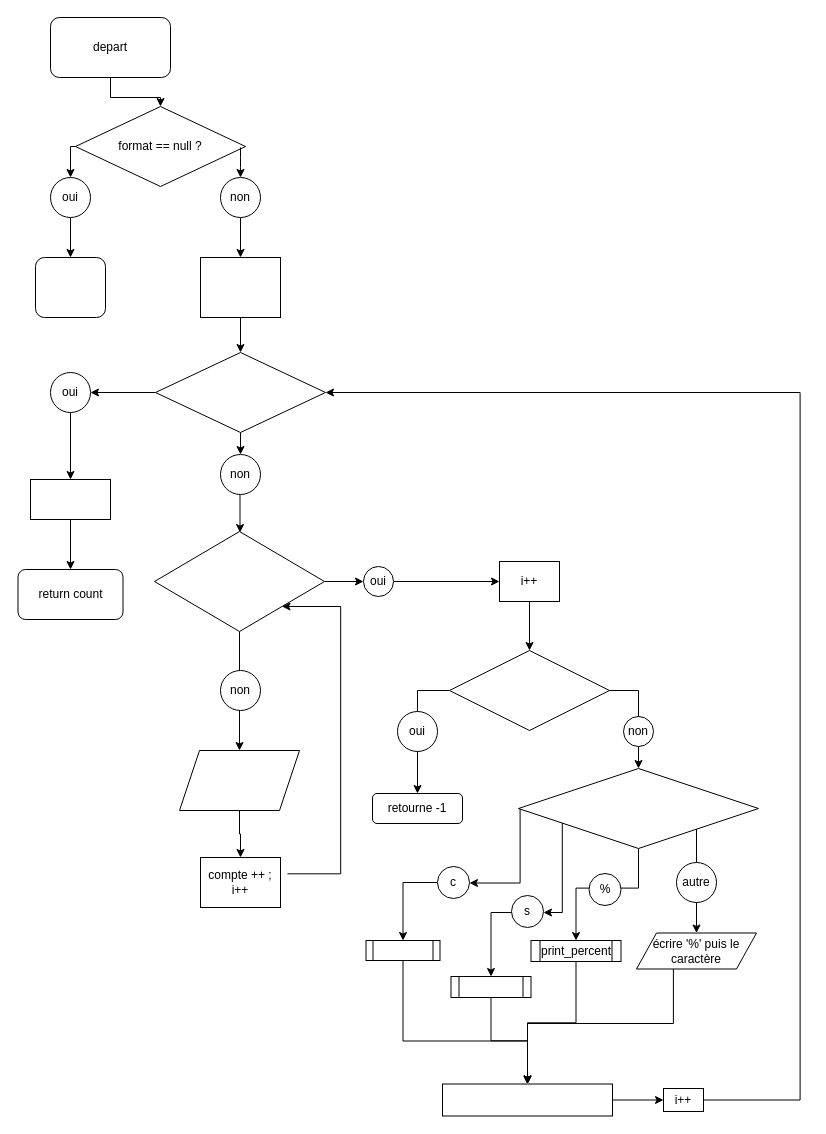
Some shapes in this 826 by 1134 pixel diagram are drawn without their labels. The shapes that lost their labels are listed below. From the top down, each one's box as (x1, y1, x2, y2) in pixels, then its label:
(34, 256, 106, 318): return -1
(200, 256, 280, 318): count = 0, i=0 va_start
(154, 352, 326, 432): format i == end of chain ?
(30, 478, 110, 520): va_end
(154, 530, 324, 632): format i == '%' ?
(448, 650, 610, 730): format de fin de chaine ; \0
(178, 750, 300, 810): ecrire format i
(518, 768, 758, 848): quelle spécificateur ?
(365, 940, 440, 960): print_char
(450, 976, 531, 998): print_string
(442, 1083, 612, 1116): compte += caractères écris
